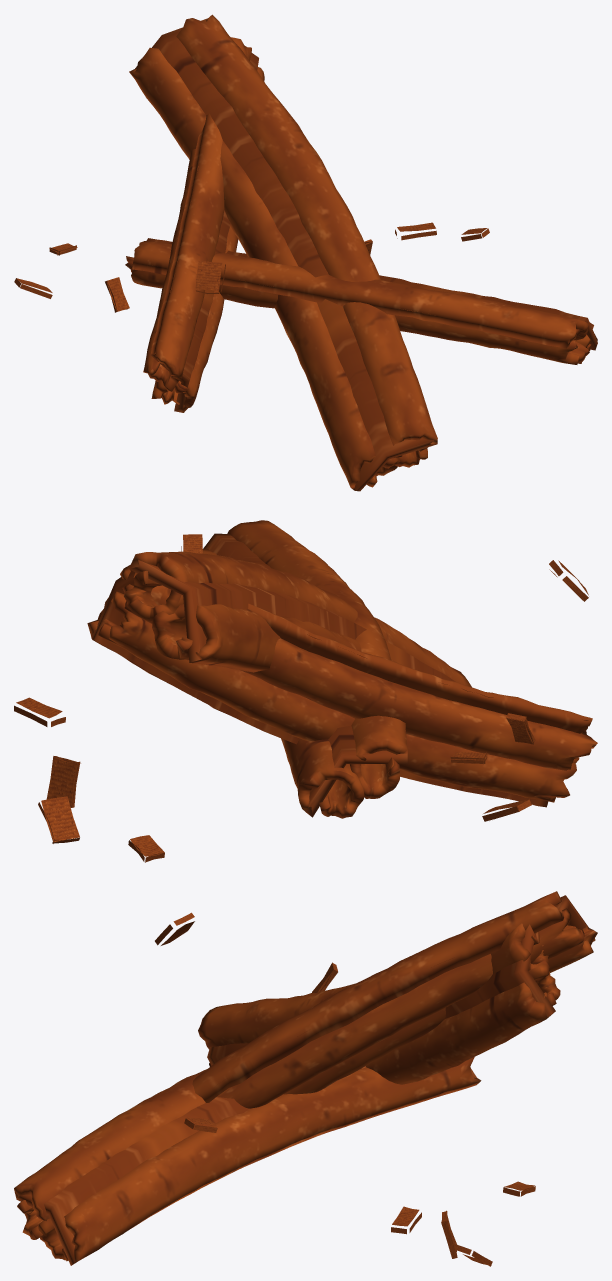
The model's file is cinnamon-sticks.glb.
The picture shows the model from 3 angles, top to bottom: view 1: azimuth 30°, elevation 25°; view 2: azimuth 150°, elevation 25°; view 3: azimuth 270°, elevation 25°; orthographic projection. The views are drawn at different scales.
Visible parts, largest first — view 1: cinnamon-quill-bundle; view 2: cinnamon-quill-bundle; view 3: cinnamon-quill-bundle.
Boxes of the visible parts, left/top/right/bottom form: cinnamon-quill-bundle: left=14, top=14, right=597, bottom=491; cinnamon-quill-bundle: left=14, top=520, right=597, bottom=862; cinnamon-quill-bundle: left=14, top=891, right=597, bottom=1266.
Size of the model in its own units: 0.083 by 0.0579 by 0.0847.
Materials: 1 (1 with a texture image).
